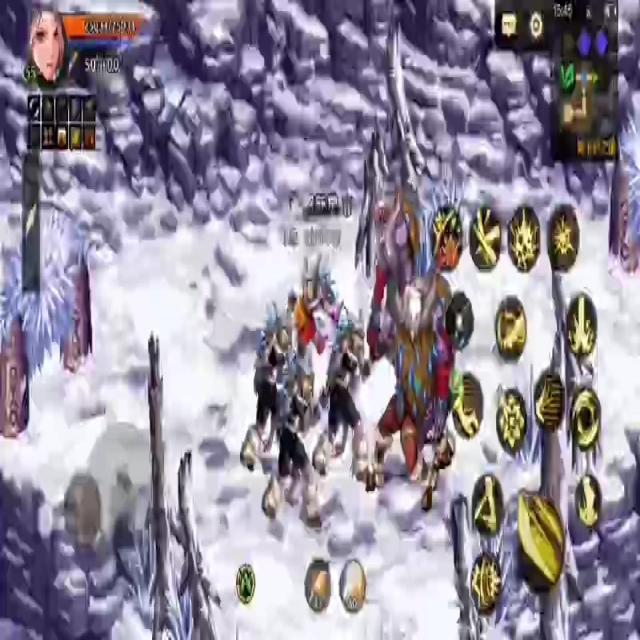player: (289, 286, 347, 400)
